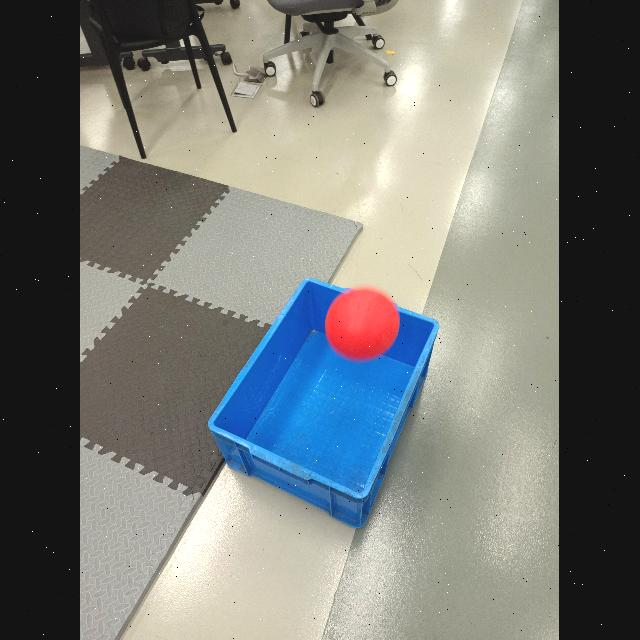R: (328, 287, 400, 359)
